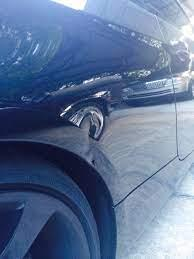quaterpanel-dent: (1, 2, 166, 212)
